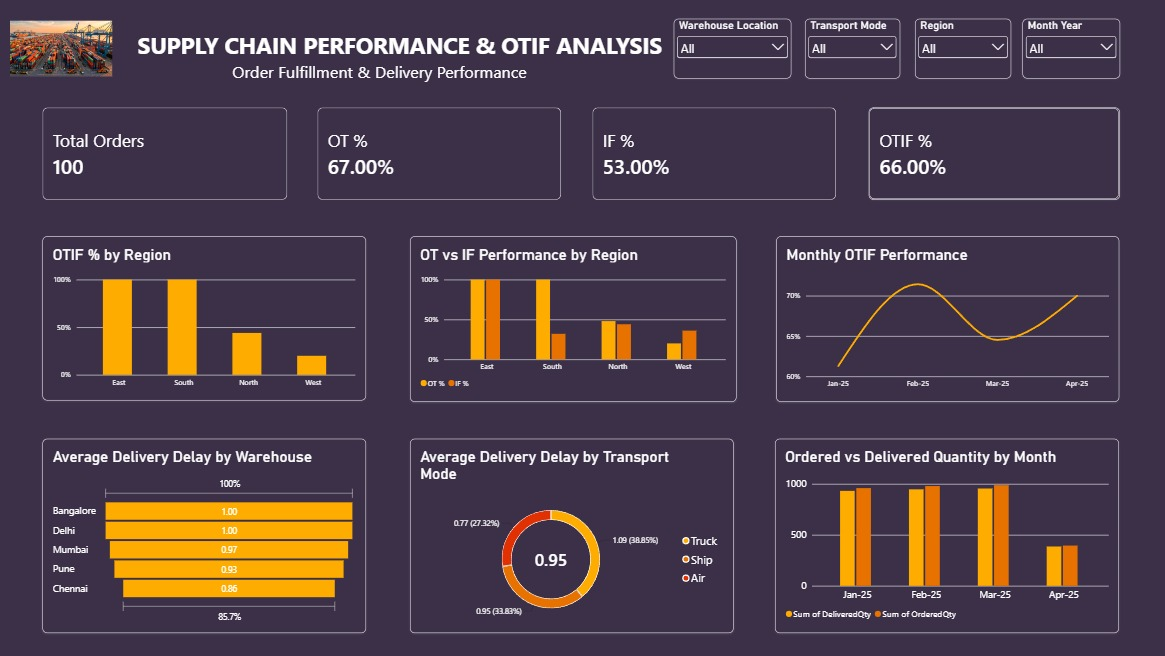

The page's visual inventory and layout, read from the dashboard file:
{"tool":"powerbi","page":{"name":"Page 1","canvas":[1920,1080],"ordinal":0},"visuals":[{"type":"cardVisual","fields":{"Data":["Measure.Total Orders"]},"box":[70,177,403.4,152.3],"z":0},{"type":"cardVisual","fields":{"Data":["Measure.OT %"]},"box":[522.8,177,401.4,152.3],"z":1},{"type":"cardVisual","fields":{"Data":["Measure.IF %"]},"box":[975.6,177,401.4,152.3],"z":2},{"type":"cardVisual","fields":{"Data":["Measure.OTIF %"]},"box":[1430.5,177,413.7,152.3],"z":3},{"type":"clusteredColumnChart","title":"OTIF % by Region","fields":{"Category":["FACT_SCM.Region"],"Y":["Measure.OTIF %"]},"box":[70,390,532.5,270],"z":4},{"type":"clusteredColumnChart","title":"OT vs IF Performance by Region","fields":{"Category":["FACT_SCM.Region"],"Y":["Measure.OT %","Measure.IF %"]},"box":[675,390,537.5,272.5],"z":5},{"type":"lineChart","title":"Monthly OTIF Performance","fields":{"Category":["Date_Table.Month Year"],"Y":["Measure.OTIF %"]},"box":[1277.5,390,565,272.5],"z":6},{"type":"funnel","title":"Average Delivery Delay by Warehouse","fields":{"Category":["DIM_MATERIAL.Warehouse Location"],"Y":["Measure.Average Delays"]},"box":[70,722.5,532.5,320],"z":7},{"type":"donutChart","title":"Average Delivery Delay by Transport Mode","fields":{"Category":["FACT_SCM.TransportMode"],"Y":["Measure.Average Delays"]},"box":[675,722.5,532.5,320],"z":8},{"type":"clusteredColumnChart","title":"Ordered vs Delivered Quantity by Month","fields":{"Category":["Date_Table.Month Year"],"Y":["Sum(FACT_SCM.DeliveredQty)","Sum(FACT_SCM.OrderedQty)"]},"box":[1276.7,723.3,566.7,320],"z":9},{"type":"textbox","box":[185.2,0,953,177],"z":10},{"type":"slicer","fields":{"Values":["Date_Table.Month Year"]},"box":[1683.7,30.9,160.5,98.8],"z":11},{"type":"slicer","fields":{"Values":["FACT_SCM.Region"]},"box":[1506.7,30.9,158.5,98.8],"z":12},{"type":"slicer","fields":{"Values":["FACT_SCM.TransportMode"]},"box":[1325.6,30.9,156.4,98.8],"z":13},{"type":"slicer","fields":{"Values":["DIM_MATERIAL.Warehouse Location"]},"box":[1109.4,30.9,193.5,98.8],"z":15},{"type":"image","box":[16.5,16.5,168.8,127.6],"z":16}]}

Visuals, with their boxes in screenshot pixels (x1, y1, x2, y2), scaled from the page's 1920x1080 canvas onto the 1165x656 screenshot:
cardVisual - Measure.Total Orders: bbox(42, 108, 287, 200)
cardVisual - Measure.OT %: bbox(317, 108, 561, 200)
cardVisual - Measure.IF %: bbox(592, 108, 836, 200)
cardVisual - Measure.OTIF %: bbox(868, 108, 1119, 200)
"OTIF % by Region" clusteredColumnChart: bbox(42, 237, 366, 401)
"OT vs IF Performance by Region" clusteredColumnChart: bbox(410, 237, 736, 402)
"Monthly OTIF Performance" lineChart: bbox(775, 237, 1118, 402)
"Average Delivery Delay by Warehouse" funnel: bbox(42, 439, 366, 633)
"Average Delivery Delay by Transport Mode" donutChart: bbox(410, 439, 733, 633)
"Ordered vs Delivered Quantity by Month" clusteredColumnChart: bbox(775, 439, 1119, 634)
textbox: bbox(112, 0, 691, 108)
slicer - Date_Table.Month Year: bbox(1022, 19, 1119, 79)
slicer - FACT_SCM.Region: bbox(914, 19, 1010, 79)
slicer - FACT_SCM.TransportMode: bbox(804, 19, 899, 79)
slicer - DIM_MATERIAL.Warehouse Location: bbox(673, 19, 791, 79)
image: bbox(10, 10, 112, 88)
